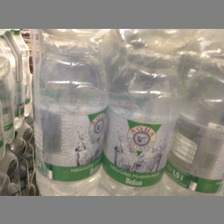water: (103, 29, 199, 193), (28, 29, 107, 195), (164, 29, 224, 193)
